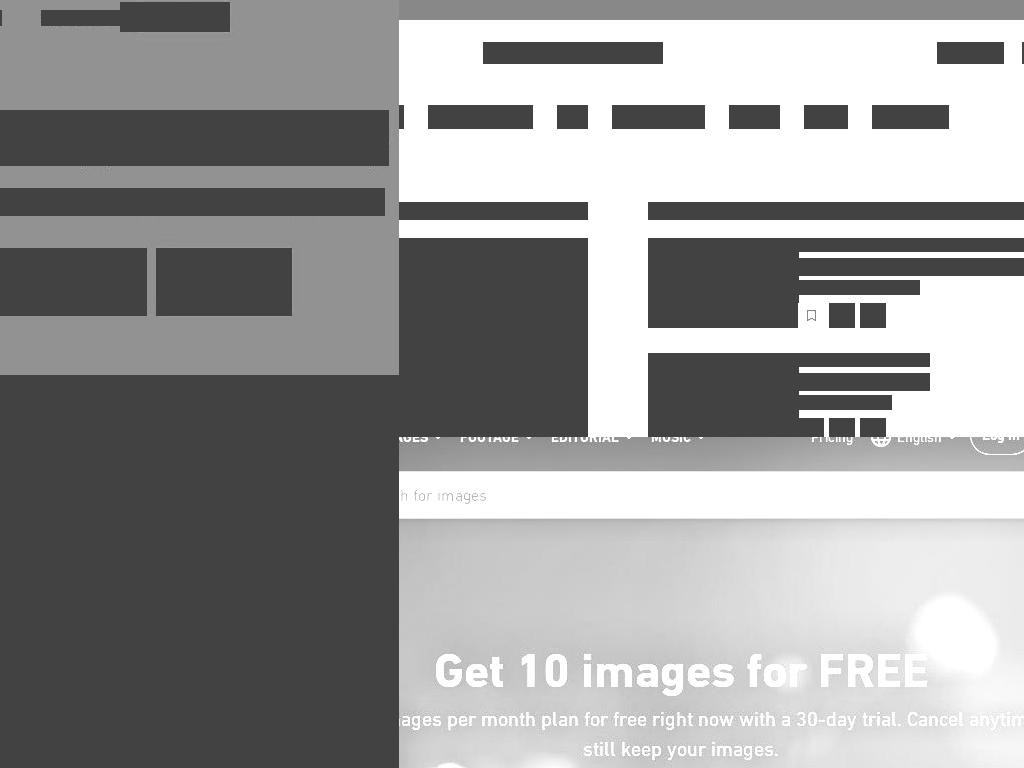button: (0, 437, 162, 768), (648, 238, 799, 328), (648, 353, 799, 437), (202, 492, 356, 555), (156, 248, 292, 316), (0, 595, 149, 635), (0, 645, 149, 685), (302, 707, 399, 761), (139, 437, 259, 472), (483, 42, 663, 64), (120, 2, 230, 32), (428, 105, 533, 129), (612, 105, 705, 129), (202, 744, 282, 768), (872, 105, 949, 129), (543, 437, 643, 455), (452, 437, 543, 455), (937, 42, 1004, 64), (88, 737, 160, 757), (643, 437, 715, 455), (41, 10, 121, 26), (729, 105, 780, 129), (804, 105, 848, 129), (803, 437, 861, 455), (970, 437, 1024, 455), (399, 437, 452, 455), (557, 105, 588, 129), (798, 303, 824, 328), (829, 303, 855, 328), (860, 303, 886, 328), (798, 418, 824, 437), (829, 418, 855, 437), (860, 418, 886, 437)
field: (399, 471, 1024, 519), (0, 248, 147, 316), (0, 545, 149, 585)
heading: (399, 703, 1024, 764), (399, 643, 1024, 696), (0, 188, 385, 216), (202, 493, 350, 554), (648, 202, 1024, 220), (302, 708, 399, 760), (399, 202, 588, 220)
image: (399, 437, 1024, 768), (0, 437, 399, 768), (0, 437, 162, 768), (399, 238, 588, 437), (648, 238, 775, 328), (648, 353, 775, 437), (483, 42, 663, 64), (202, 744, 282, 768), (799, 309, 823, 322), (830, 309, 854, 322), (861, 309, 885, 322), (799, 424, 823, 437), (830, 424, 854, 437), (861, 424, 885, 437)
label: (284, 392, 335, 414), (152, 392, 185, 414), (384, 392, 399, 414)
link: (798, 238, 1024, 252), (798, 353, 930, 367), (88, 737, 160, 757)
text: (0, 110, 389, 166), (202, 563, 356, 617), (0, 444, 259, 474), (798, 258, 1024, 276), (0, 489, 169, 510), (798, 373, 930, 391), (0, 737, 85, 757), (815, 280, 920, 295), (181, 273, 267, 291), (148, 6, 218, 28), (815, 395, 892, 410), (937, 42, 983, 64), (551, 437, 619, 446), (460, 437, 519, 446), (897, 437, 942, 448), (202, 637, 225, 653), (651, 437, 691, 446), (798, 280, 816, 295), (798, 395, 816, 410), (399, 437, 428, 446)
